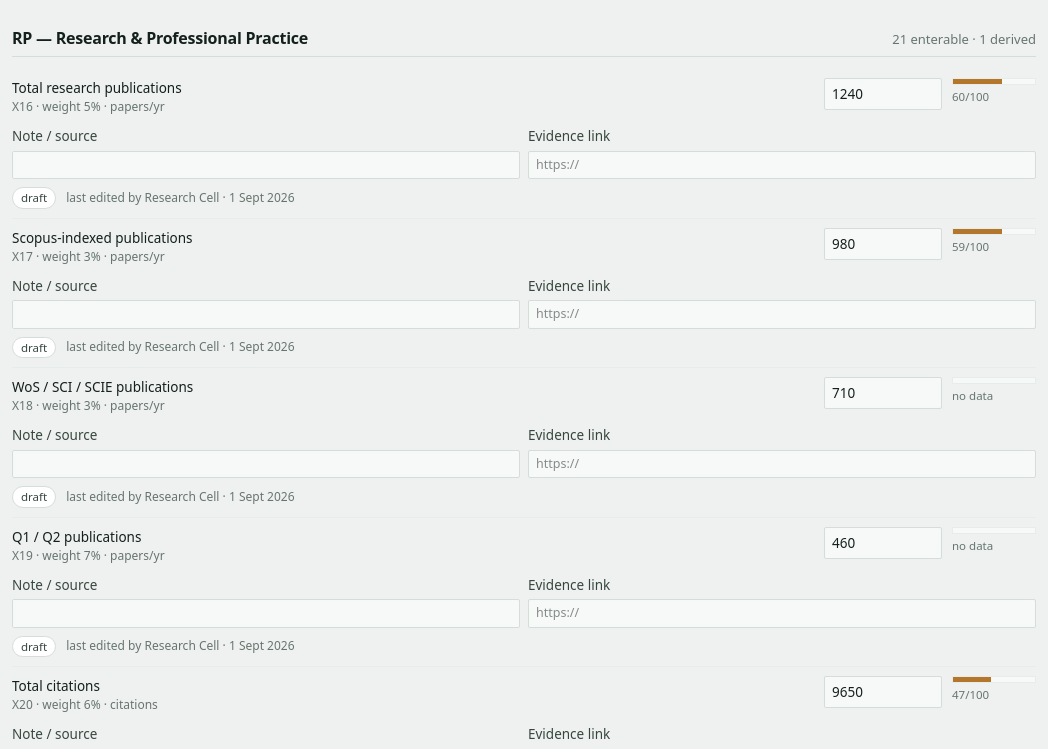
Test: <DataForm> as a contributor owning RP › shows 'no data' when a value is cleared
Clear the number field labelled "Total research publications" at {"x": 883, "y": 94}, box [824,78,942,110]
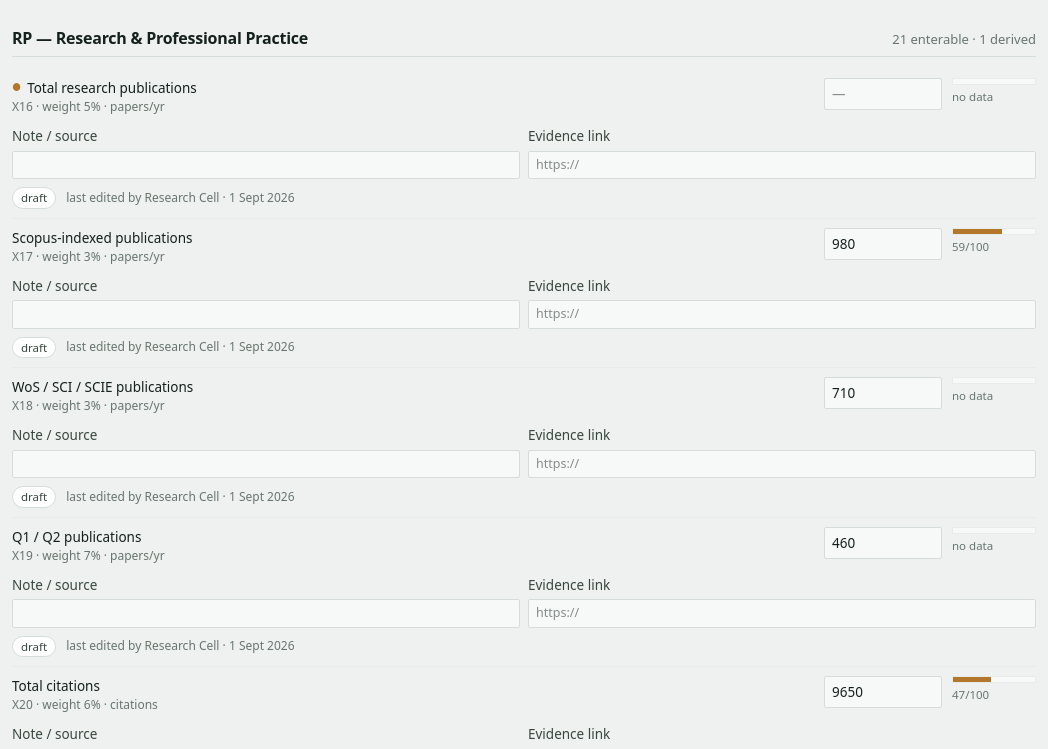
expect the text "no data" in the row of "Total research publications" is shown: met, box [952,89,993,104]
